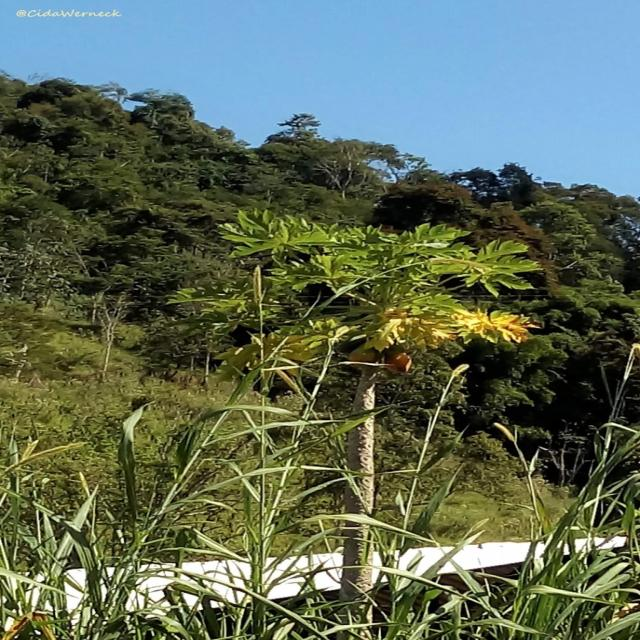Papaya-Tree: (236, 214, 526, 596)
